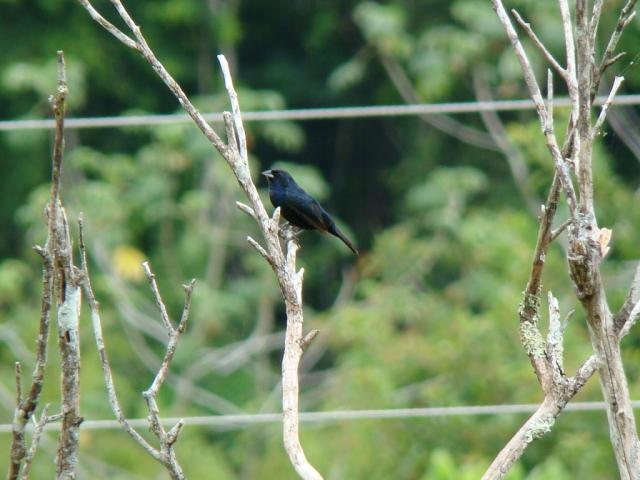Bird: (258, 167, 361, 254)
